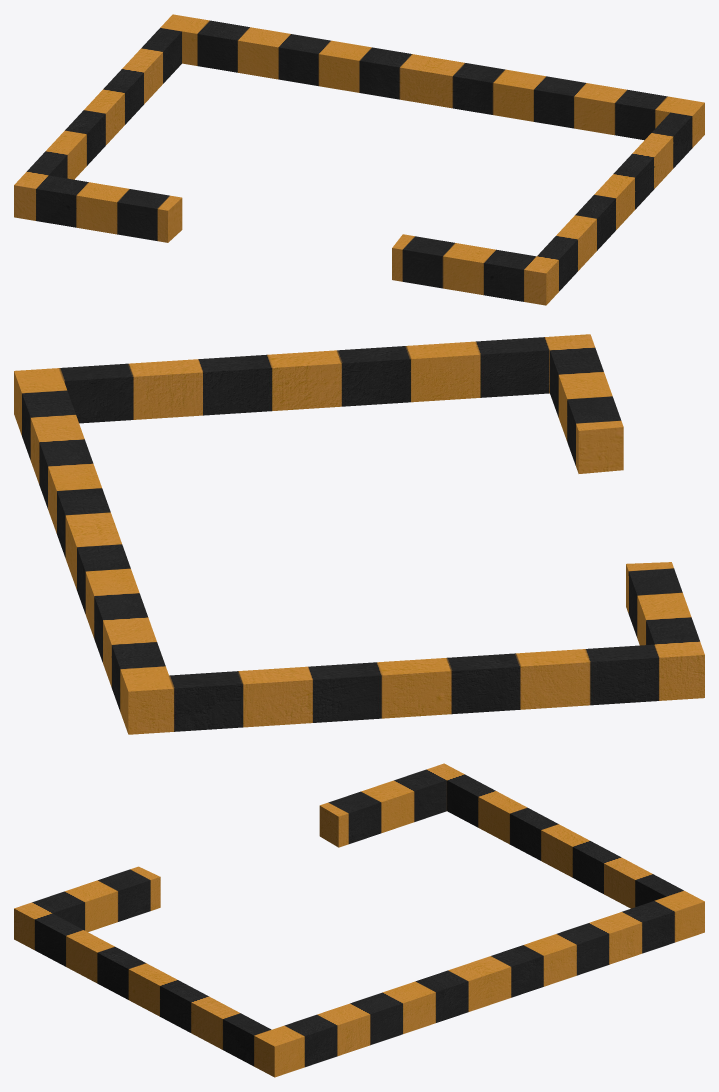
Rendered from Guard.fbx.
3 renders of one model, top to bottom at view 1: azimuth 30°, elevation 25°; view 2: azimuth 150°, elevation 25°; view 3: azimuth 270°, elevation 25°, orthographic. The views are drawn at different scales.
Parts seen in each view (by area): view 1: Cube.087; view 2: Cube.087; view 3: Cube.087.
Boxes of the visible parts, left/top/right/bottom form: Cube.087: left=14, top=14, right=704, bottom=305; Cube.087: left=14, top=334, right=704, bottom=734; Cube.087: left=14, top=763, right=704, bottom=1077.
Bounding box in the file's own units: 523 × 26.64 × 539.
Materials: 1 (1 with a texture image).
